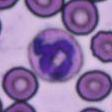N: (28, 29, 84, 82)
